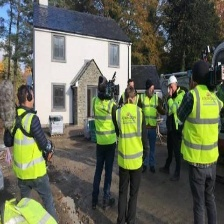helmet: (166, 74, 180, 90)
no-helmet: (189, 58, 213, 88), (17, 85, 36, 104), (98, 74, 111, 101), (124, 85, 137, 105), (145, 79, 154, 96)
person: (178, 62, 224, 224), (6, 83, 53, 211), (114, 85, 143, 220), (93, 77, 115, 214), (139, 78, 164, 174), (162, 76, 185, 174)
vest: (10, 110, 53, 182), (185, 88, 221, 167), (120, 106, 144, 178), (93, 98, 117, 154), (141, 94, 161, 130), (170, 92, 182, 134)
